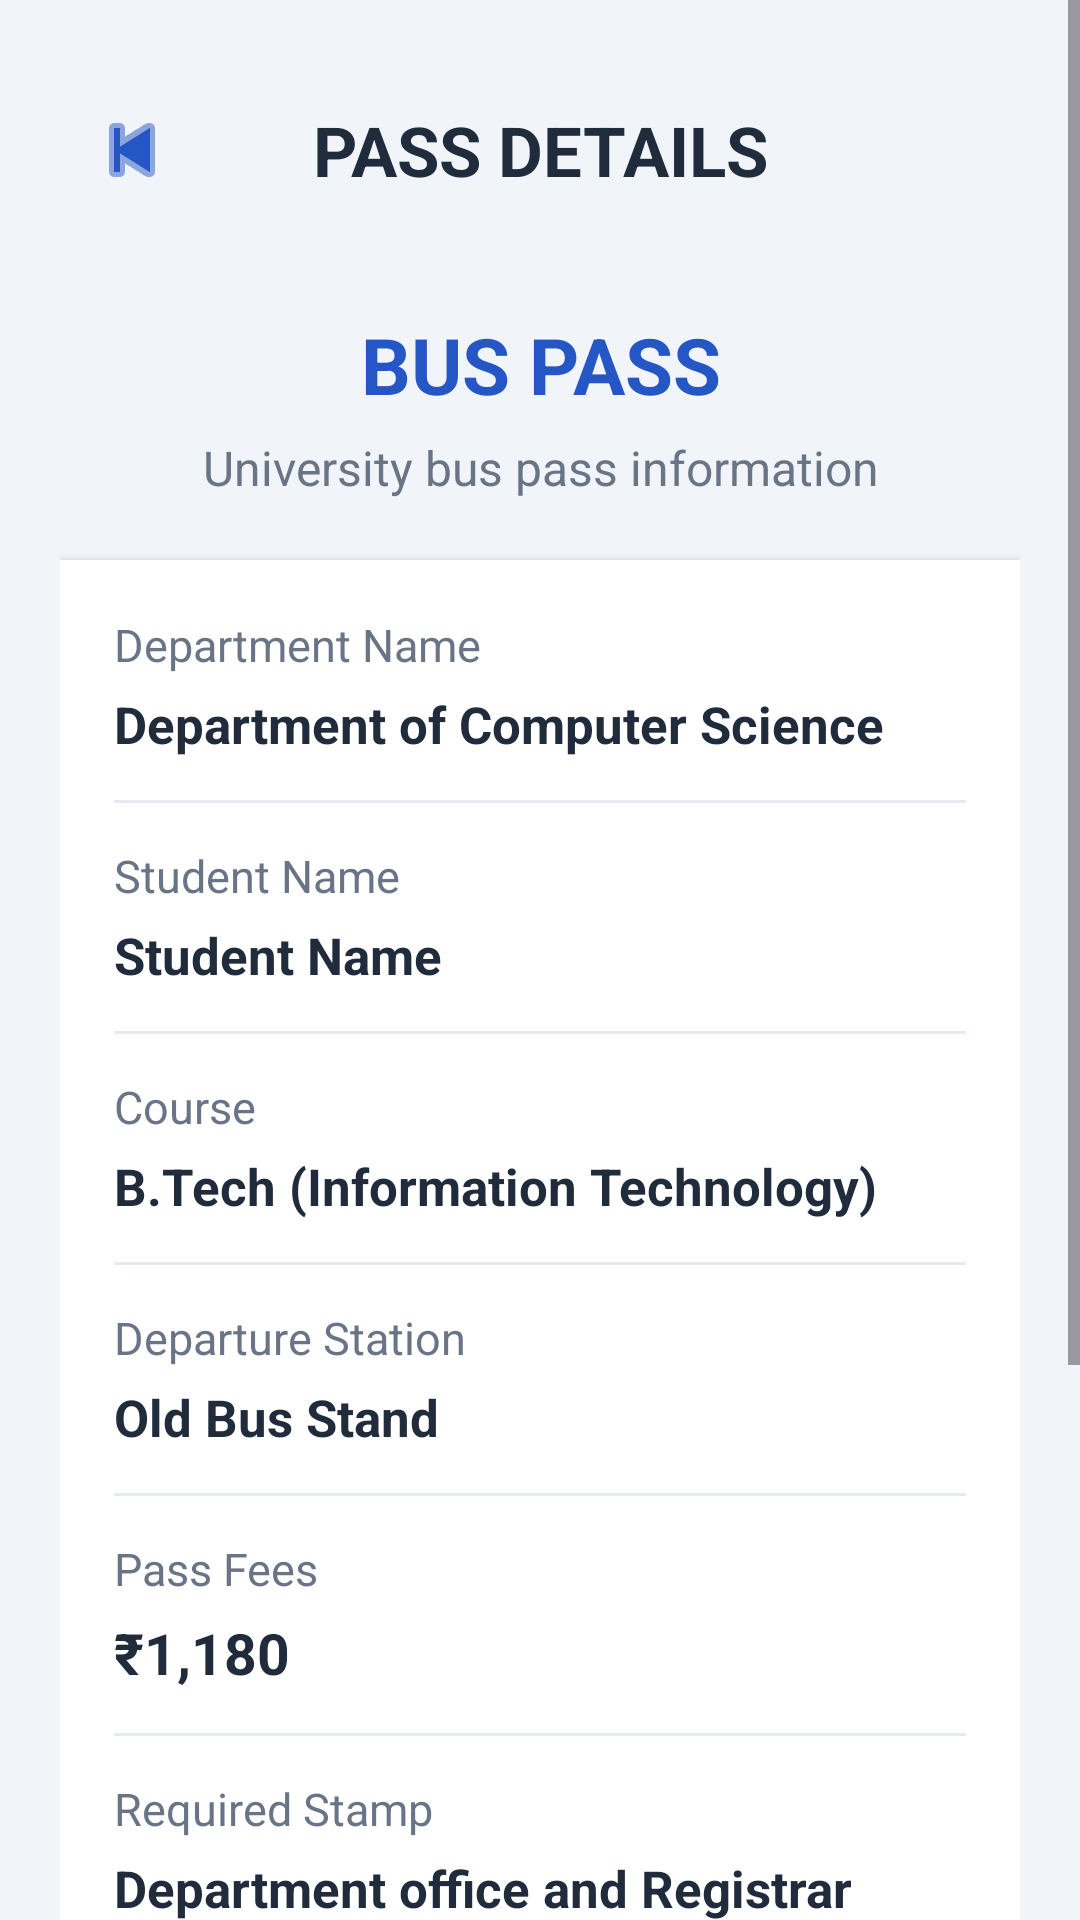

Icons on this 1080*1920 Android screen, each with its box as (x1, y1, x2, y2):
Back: (109, 123, 155, 177)
